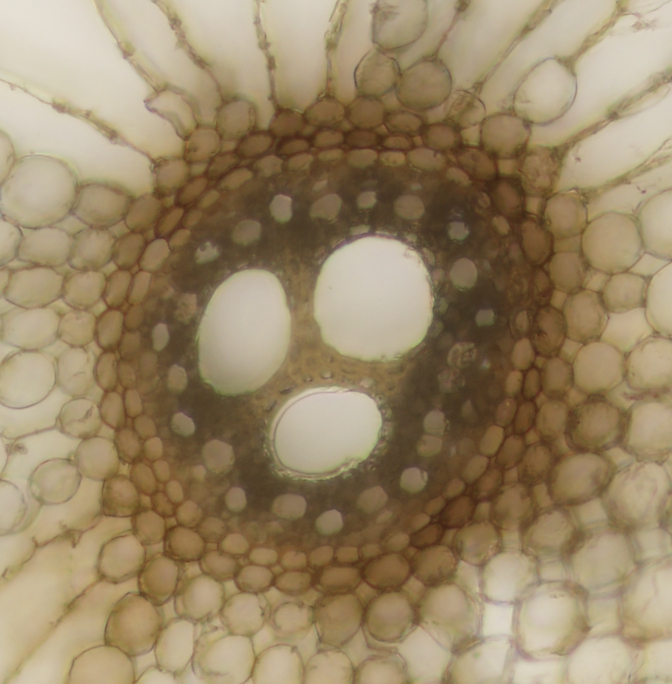lm: (311, 235, 433, 361), (194, 267, 290, 395), (268, 387, 383, 480)
